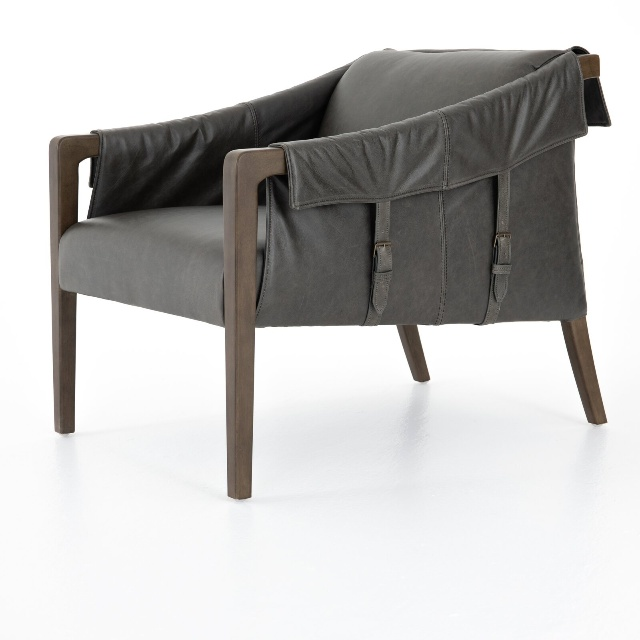obstacle: (50, 47, 609, 498)
